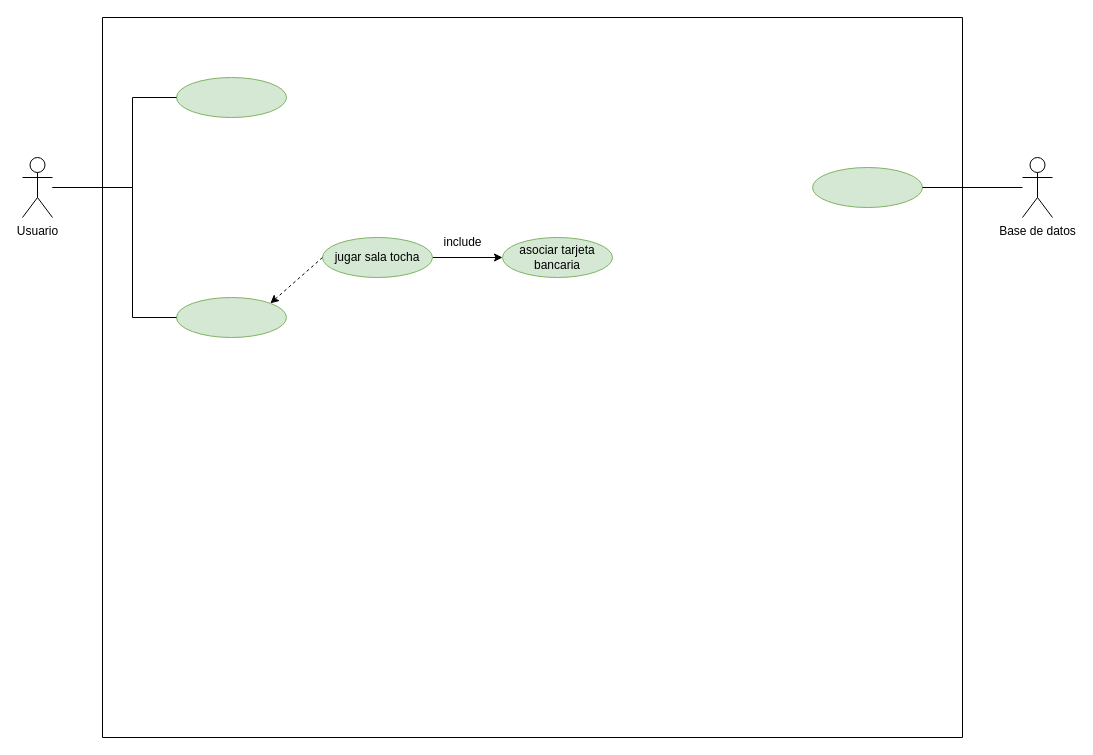
Some shapes in this 1093 by 755 pixel diagram are drawn without their labels. Here are the shapes that lost their labels. From the top down, the box of each, then its label:
(812, 166, 922, 208): Envía datos
(176, 296, 286, 338): Autenticar
